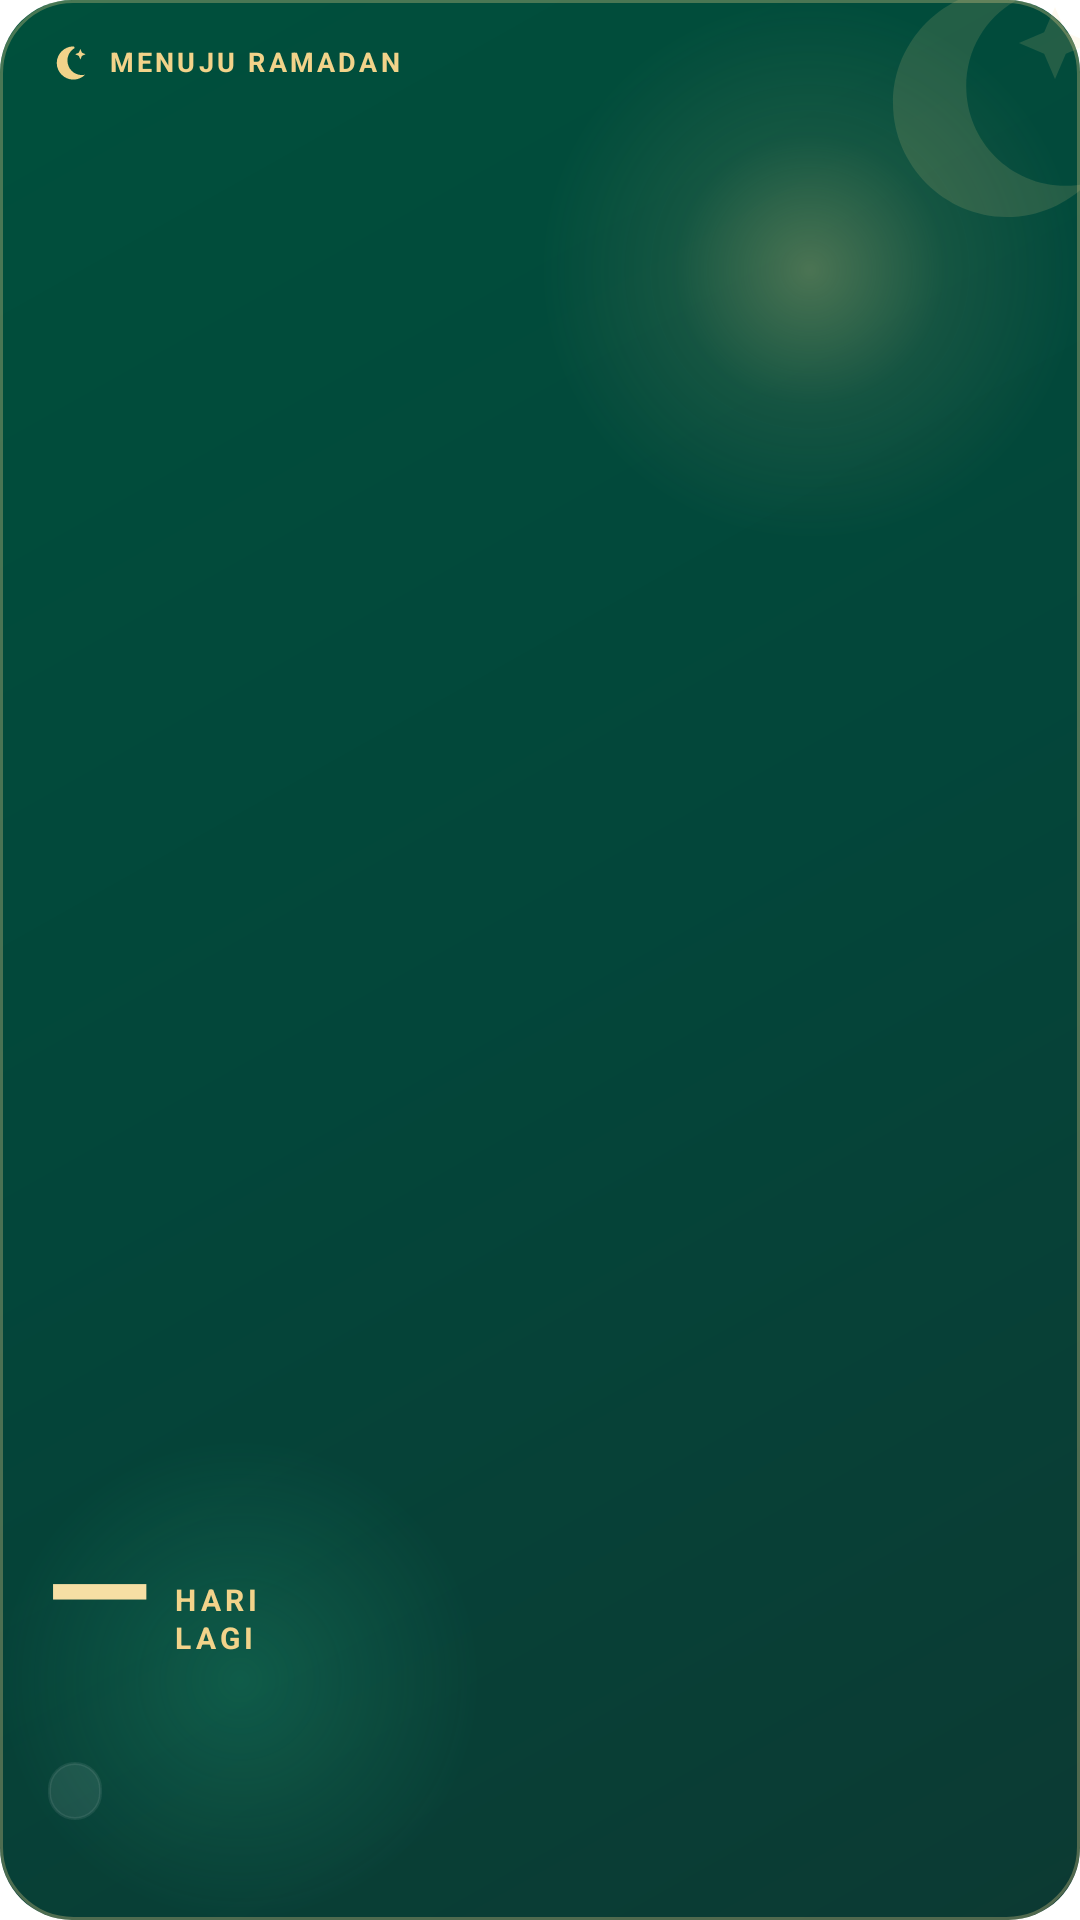

Icons on this 1080*1920 Android screen, each with the point to tap as (x=x, y=y):
widget crescent: (x=71, y=63)
